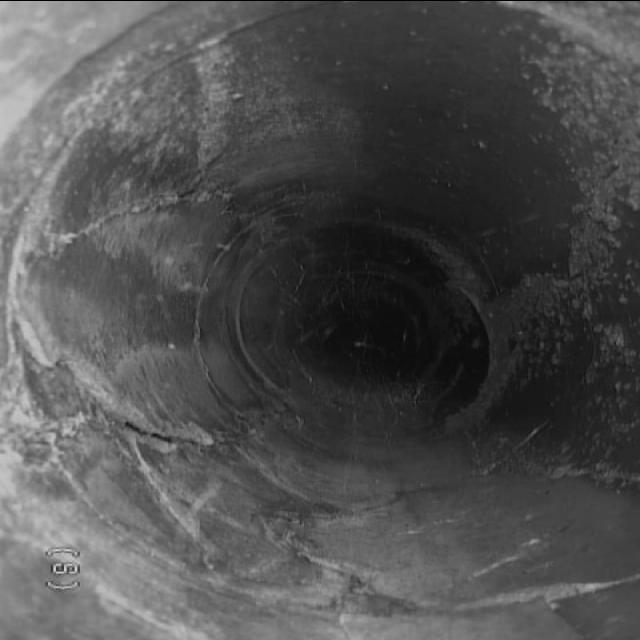Fracture: (102, 420, 464, 586), (26, 77, 222, 251)
